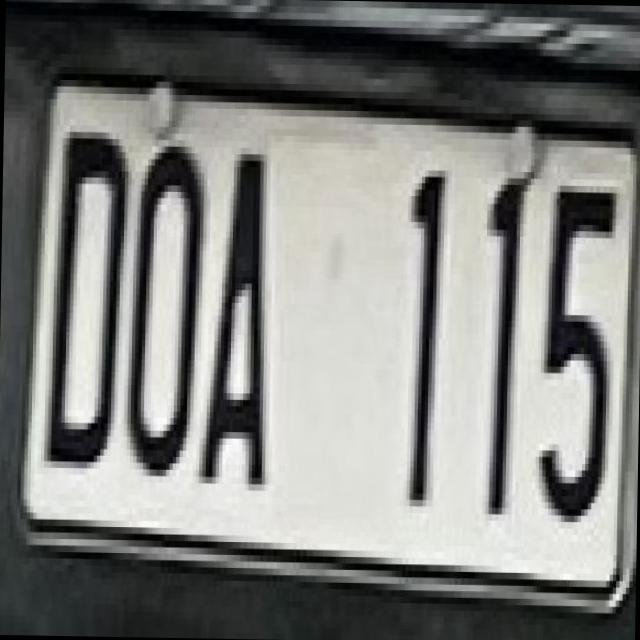0: (116, 126, 212, 482)
1: (376, 137, 459, 512), (468, 158, 527, 514)
5: (521, 152, 626, 523)
A: (192, 128, 280, 490)
D: (30, 92, 143, 476)
